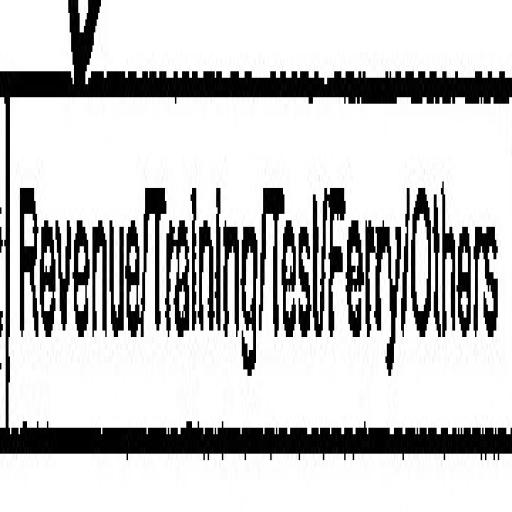check: (0, 0, 141, 480)
